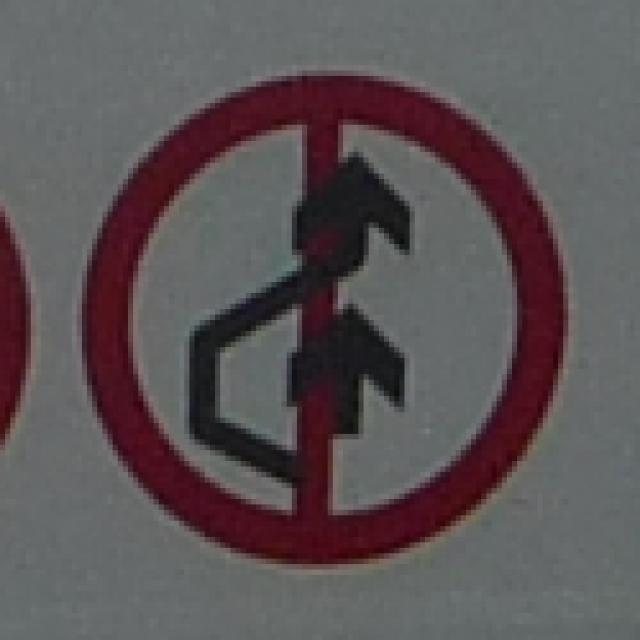Not that Direction: (64, 70, 566, 572)
